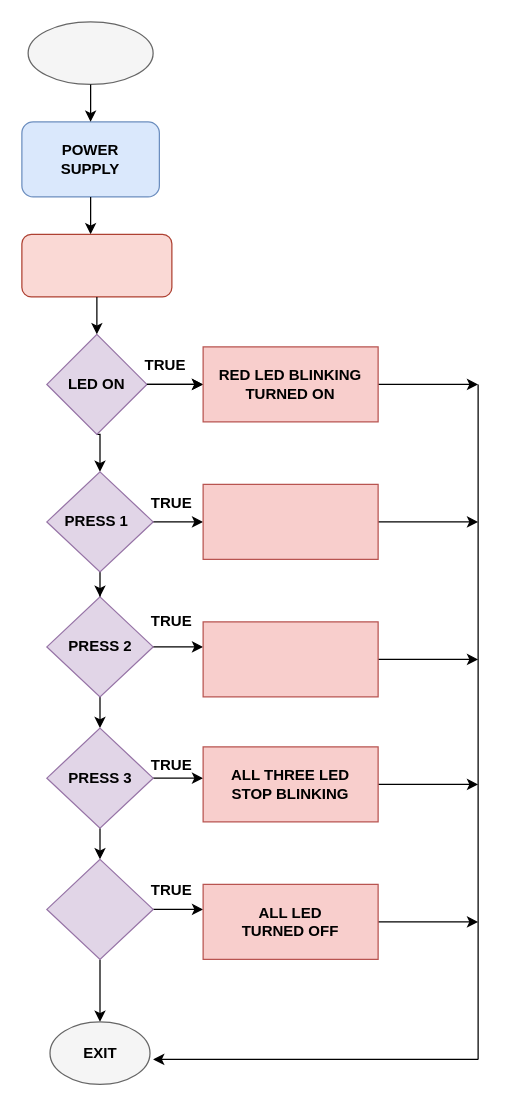
Image size: 510x1106. Some labels were removed from this diagram. Here are the shapes that lost their labels. From the top down, the centre of each, then its label:
At point (90, 52): "START".
At point (96, 265): "PUSH BUTTON".
At point (290, 521): "ALL THREE LED START BLINKING WITH A DELAY OF 1 SEC".
At point (290, 659): "ALL THREE LED START BLINKING WITH A DELAY OF 0.125 SEC".
At point (99, 908): "PRESS 4".
